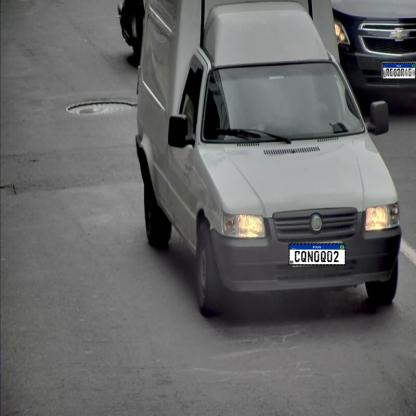PlacaM: (288, 244, 346, 266), (382, 63, 416, 79)
